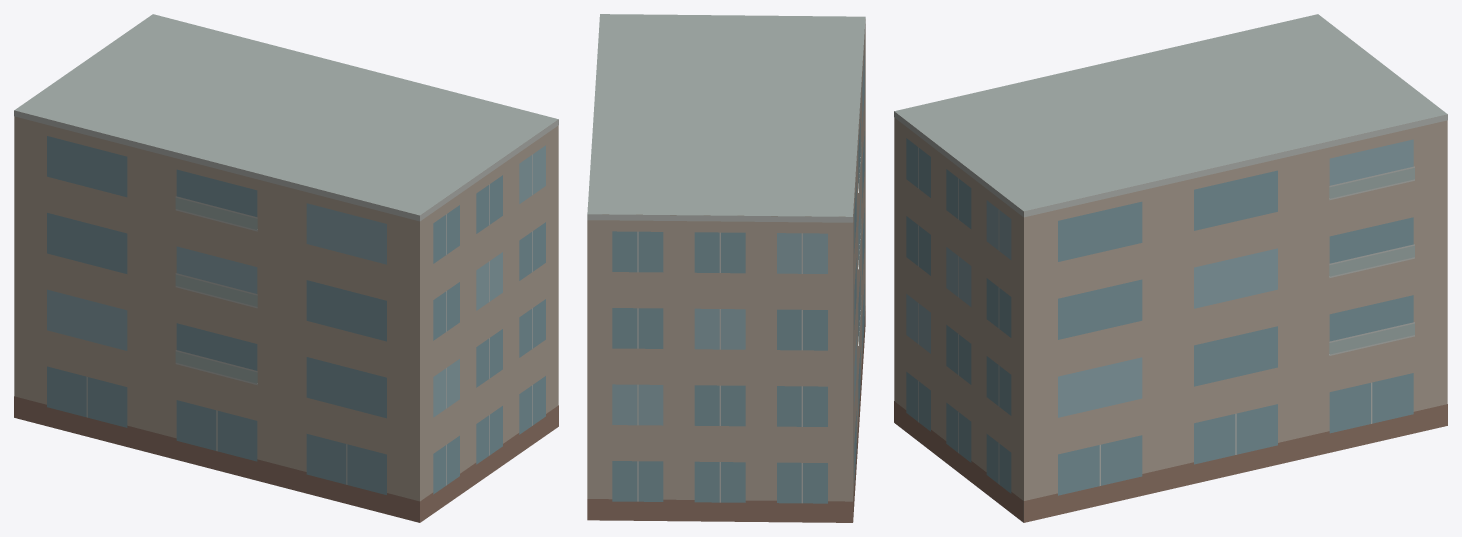
The model's file is survey-upis-32833566.glb.
The picture shows the model from 3 angles, left to right: view 1: azimuth 30°, elevation 25°; view 2: azimuth 150°, elevation 25°; view 3: azimuth 270°, elevation 25°; orthographic projection.
Visible parts, largest first — view 1: survey-upis-32833566.tmp; view 2: survey-upis-32833566.tmp; view 3: survey-upis-32833566.tmp.
Part boxes in pixels (x1,y1,x2,y2): survey-upis-32833566.tmp: (14,14,558,522); survey-upis-32833566.tmp: (587,14,865,522); survey-upis-32833566.tmp: (894,14,1447,522).
Bounding box in the file's own units: 17.14 × 12.6 × 20.31.
